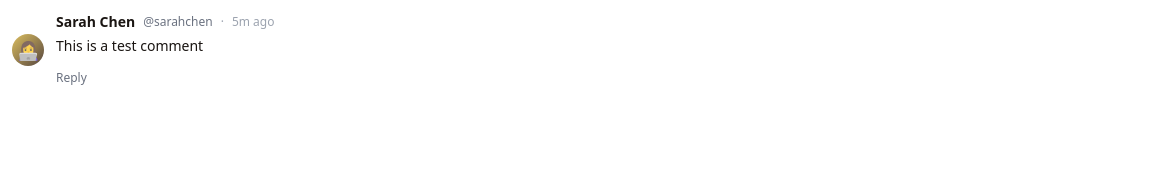
Test: Comment › should toggle reply input when reply button is clicked
Click the button "Reply" at [71, 78], box top-left (56, 70), bottom-right (87, 86)
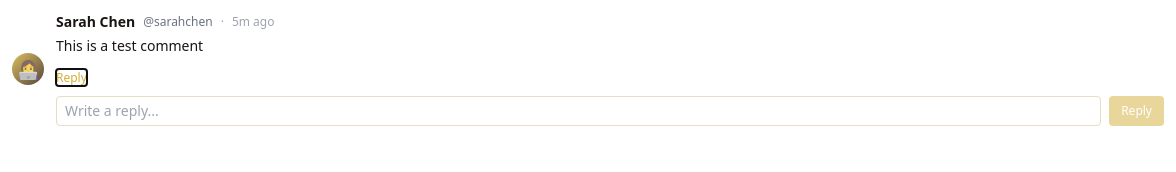
Expected: the field with placeholder "Write a reply..." is shown, top-left (56, 96), bottom-right (1101, 126)
